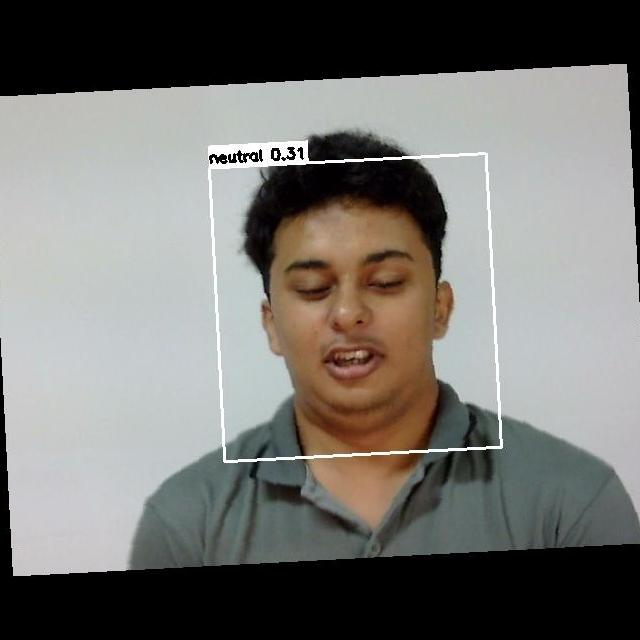Fear: (260, 237, 447, 396)
